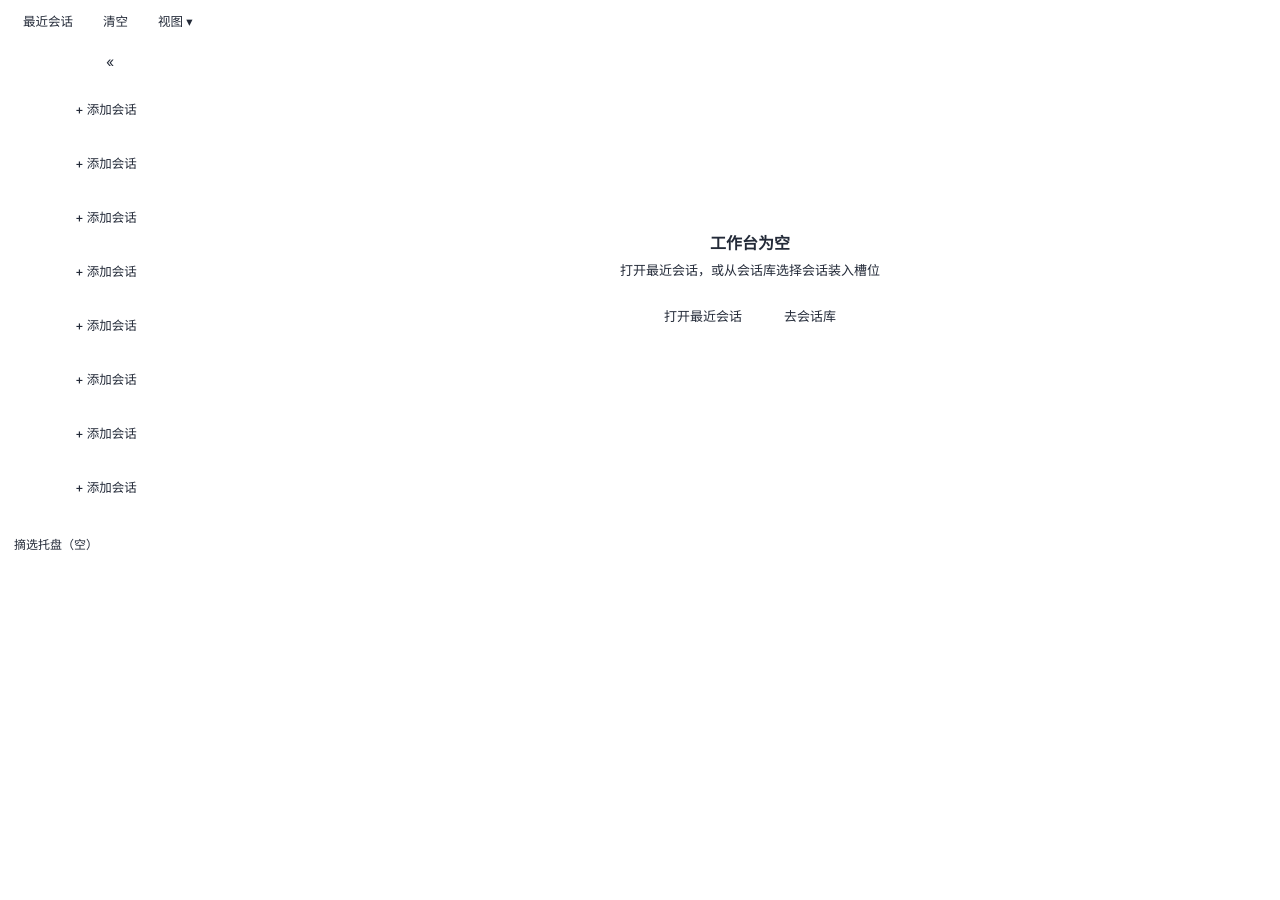
Scenario: WorkspaceView (t224) › 最近会话：快捷选择 + 清空替换全部槽位
This screenshot has width=1280, height=900.
What coordinates should you click on to do the following:
click the button "最近会话"
I would click on:
 (48, 22)
Its box is [12, 8, 84, 37].
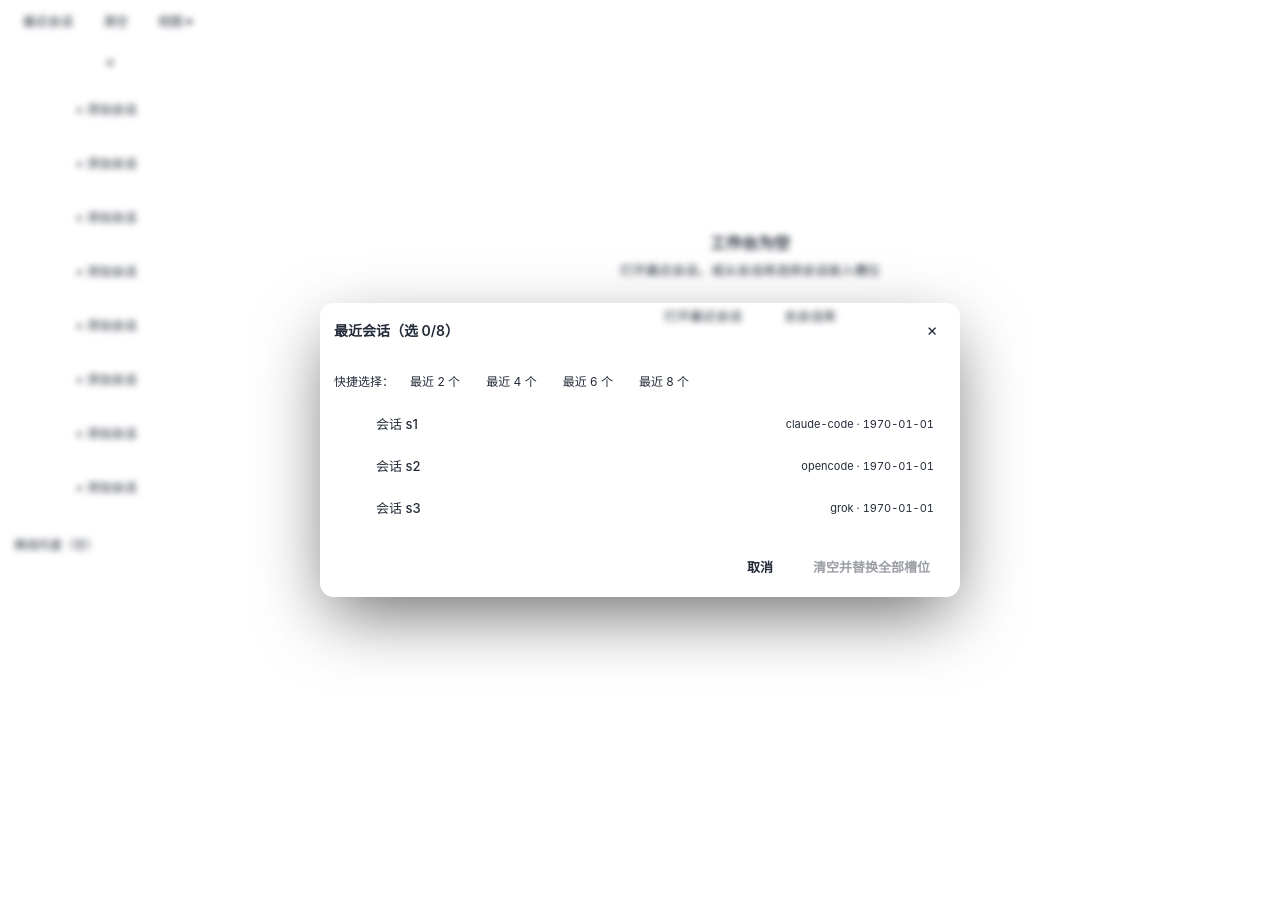
Expected: the button "最近 2 个" is shown
What coordinates should you click on to do the following:
click the button "最近 2 个"
I would click on:
 (435, 382)
Its box is [400, 369, 470, 395].
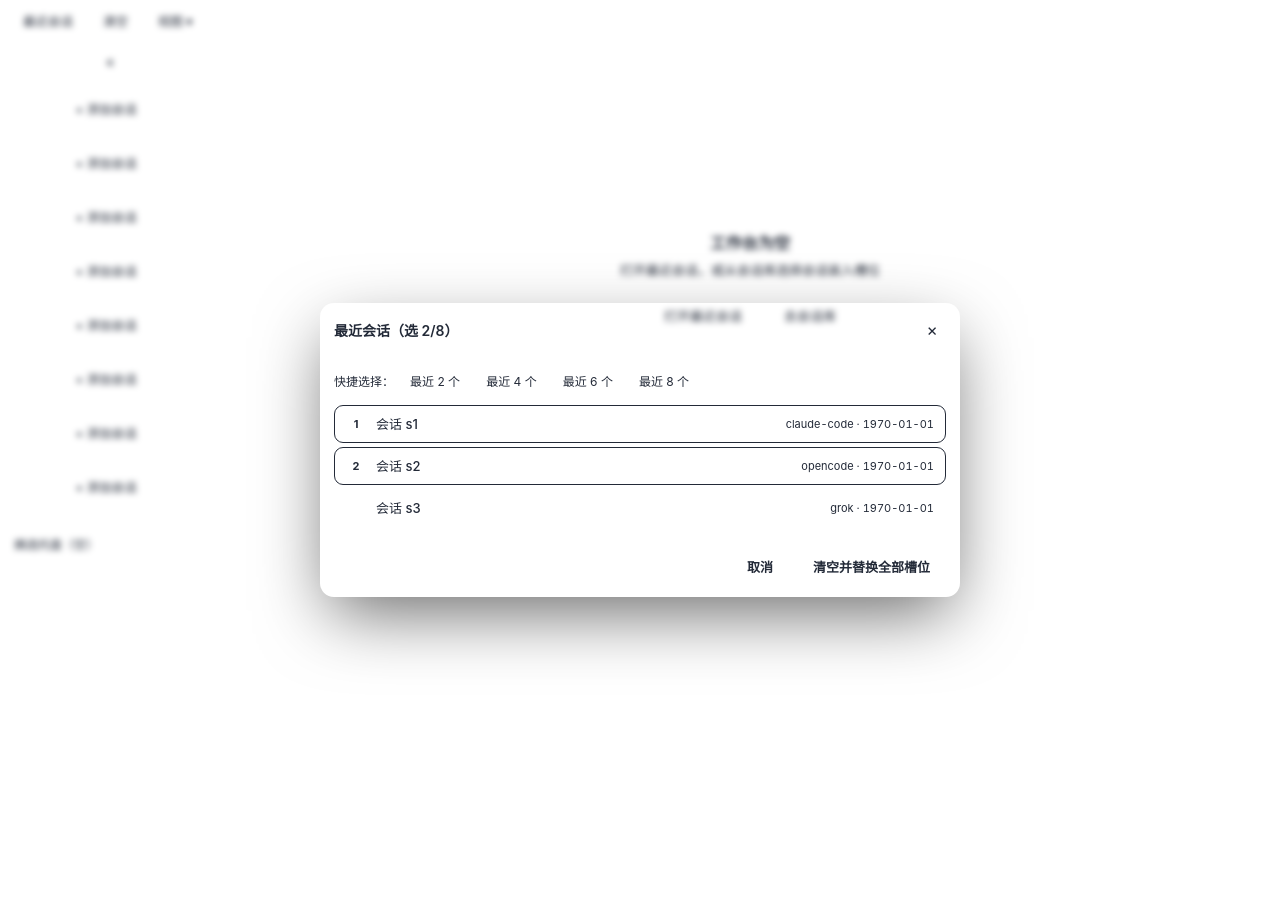
What coordinates should you click on to do the following:
click the button "清空并替换全部槽位"
I would click on:
 (872, 568)
Its box is [797, 550, 946, 586].
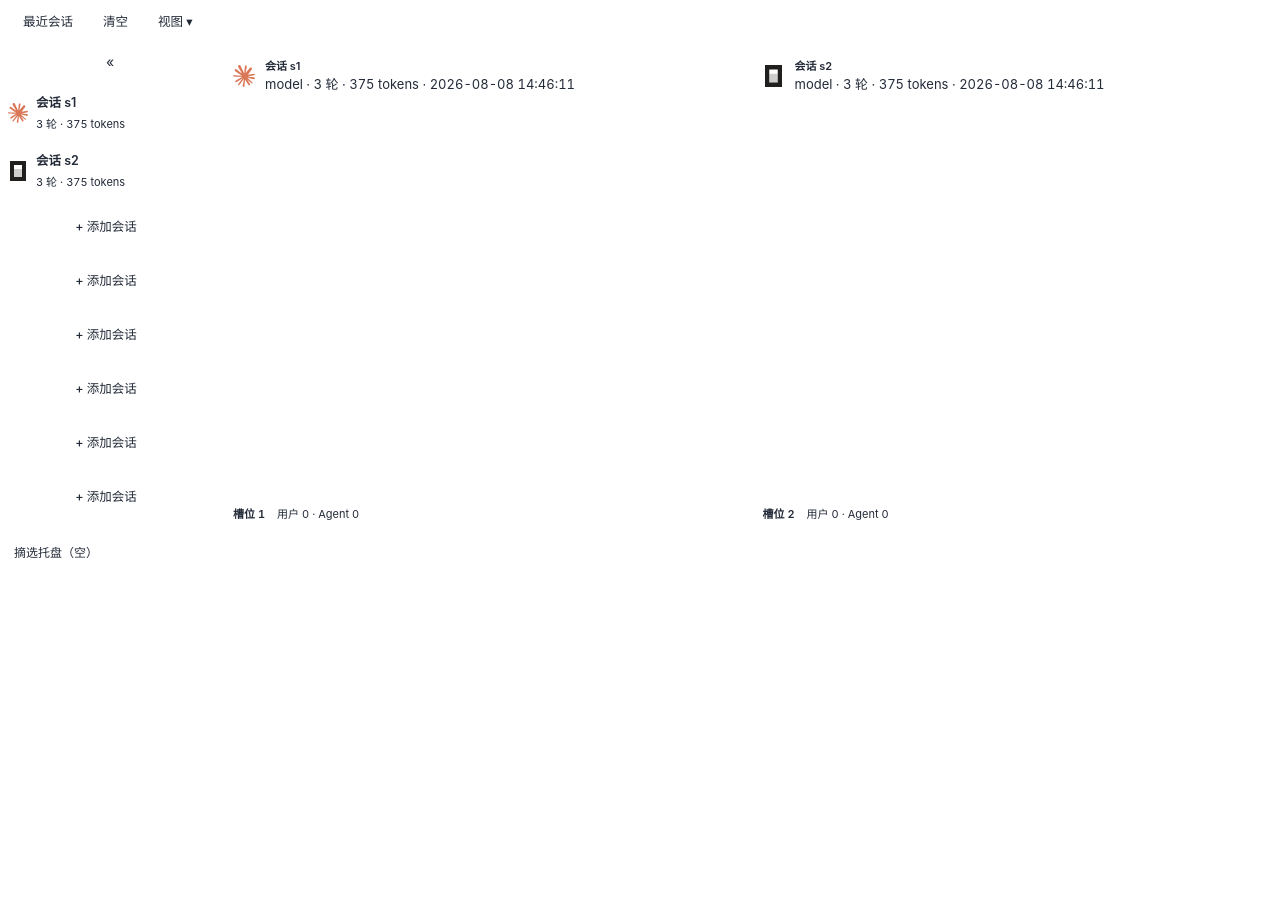
Expected: the number of elements with class "rail-title" is 2, [36, 95, 76, 110]; [36, 153, 79, 168]
